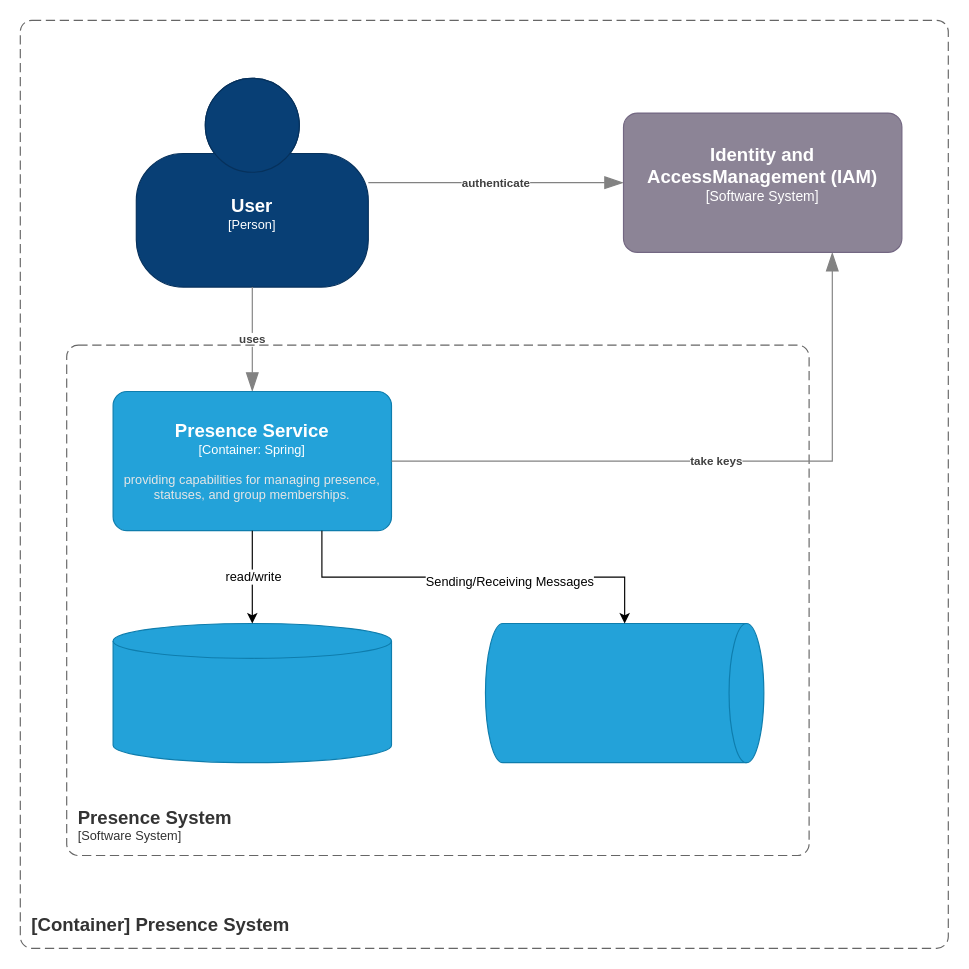
This 969x969 diagram has some shape labels left out. Here are the shapes that lost their labels. From the top down, the centre of each, then its label:
At (252,692): "NoSQL database [Container: MongoDB]".
At (624,692): "Broker [Container: Apache Kafka]".
